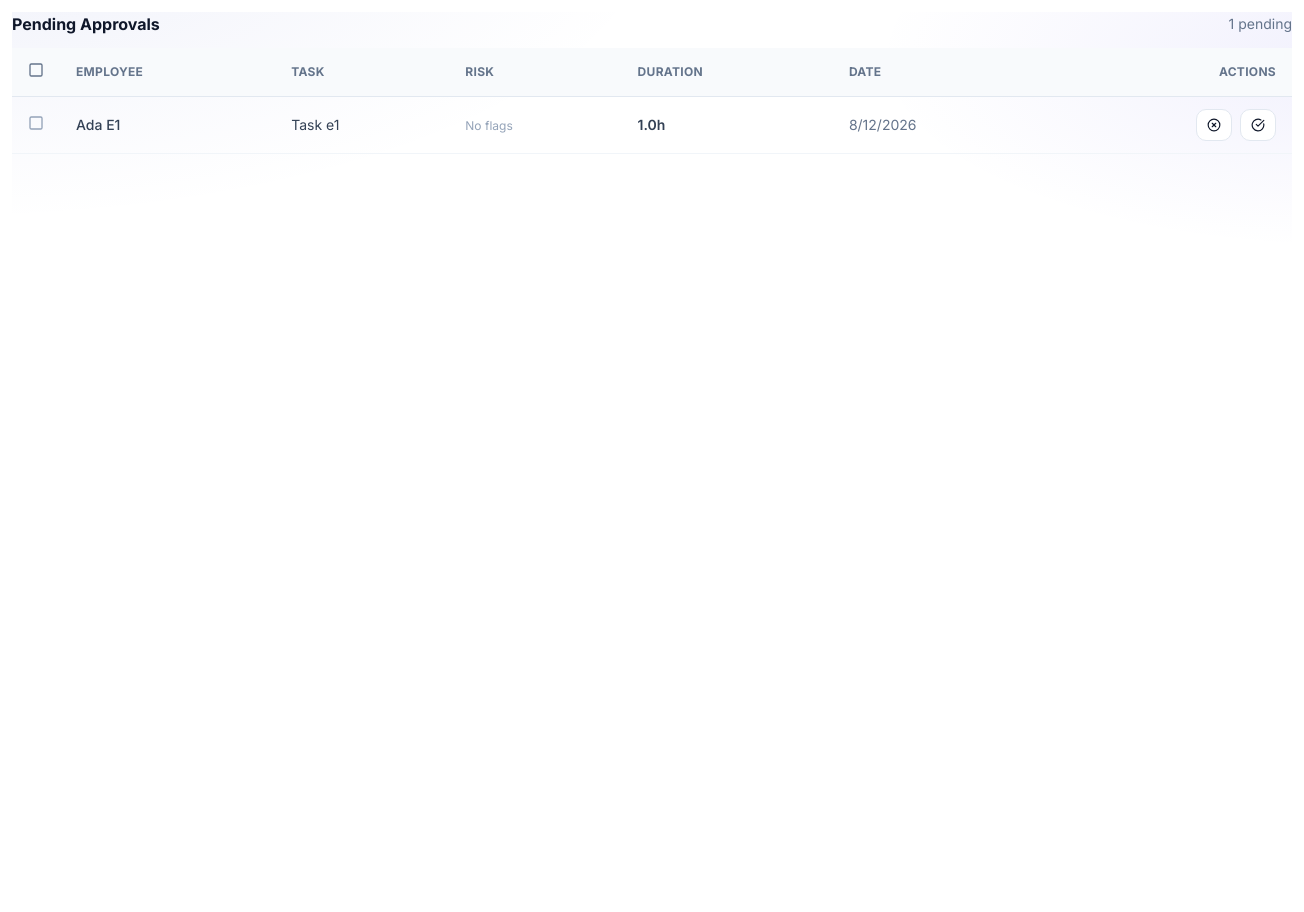
it: ApprovalQueue › toggles a row back off
The width and height of the screenshot is (1304, 912).
Click the button named "Select Ada E1": (36, 123) [28, 115, 44, 131]
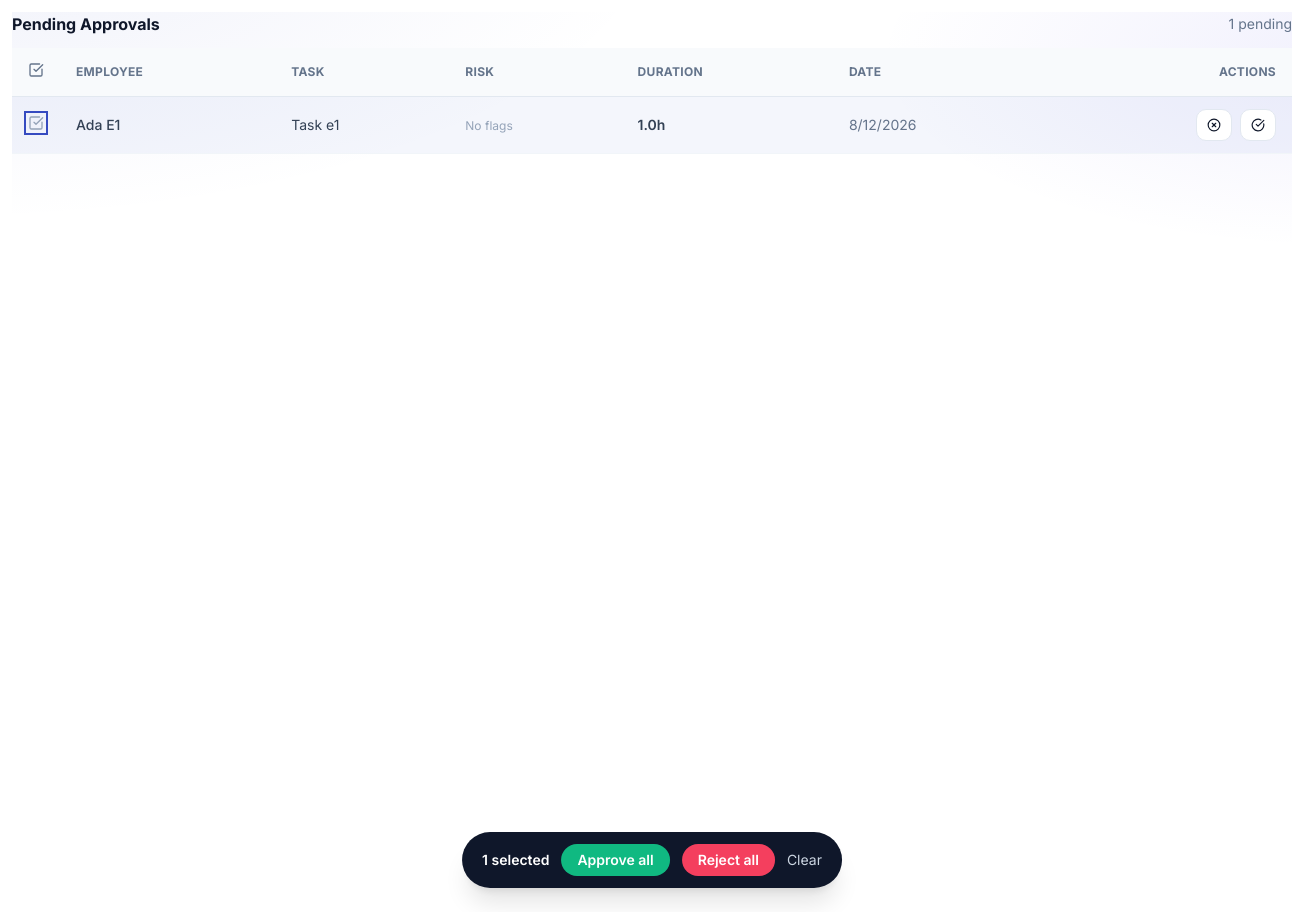
Check: the text "1 selected" is shown, box [482, 850, 549, 870]
Click the button named "Deselect Ada E1": (36, 123) [28, 115, 44, 131]
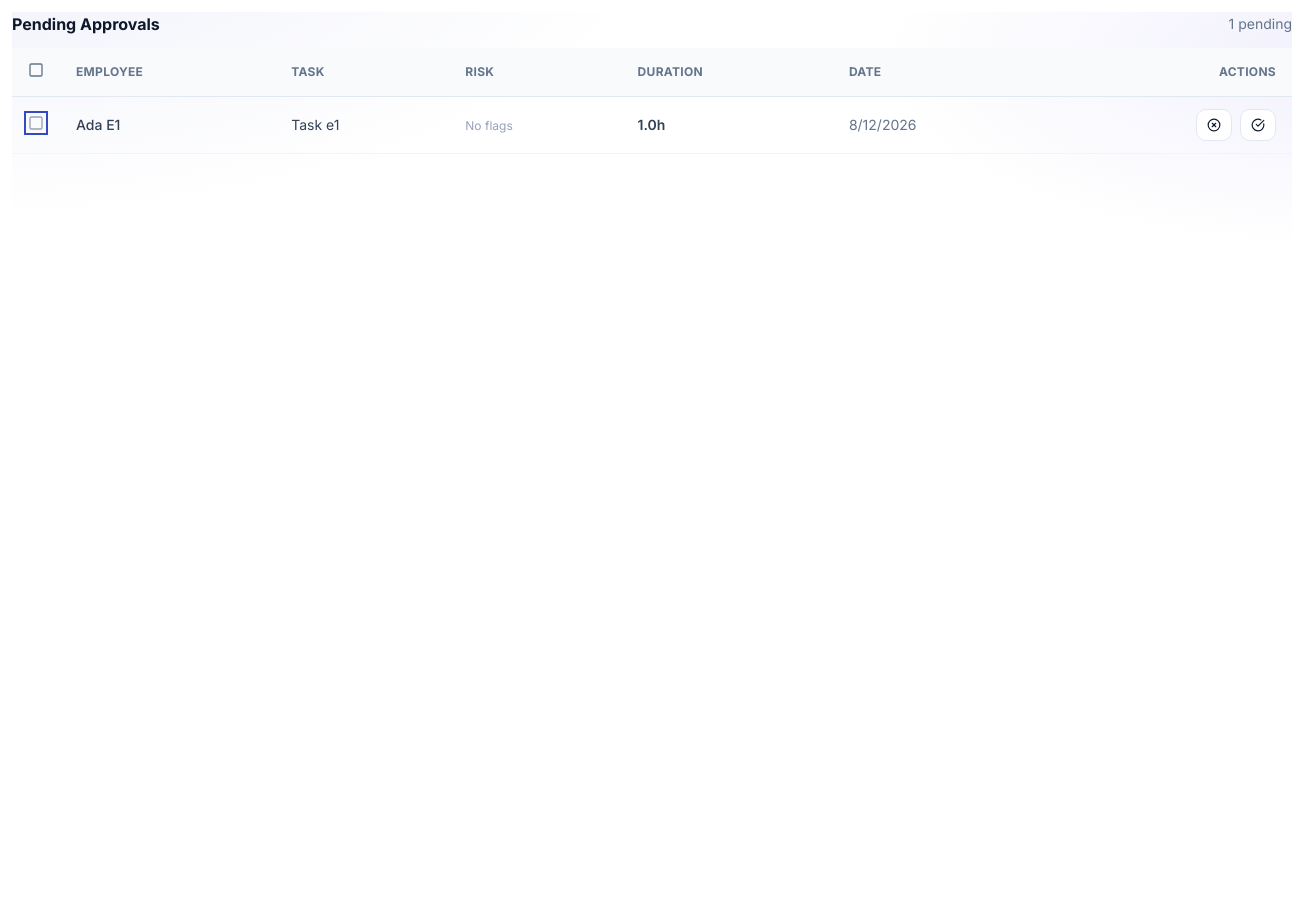
Check: the text "1 selected" is gone
